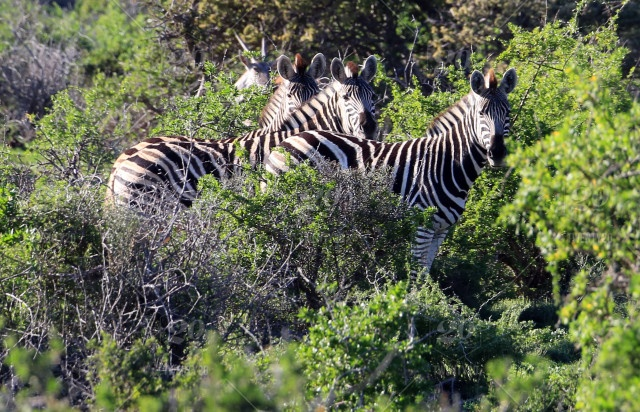zebra: (388, 176, 640, 395), (239, 144, 516, 319)
